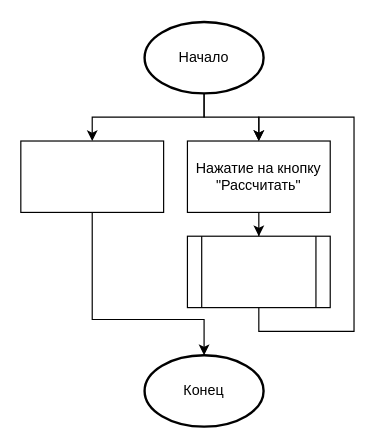
This 384x447 diagram has some shape labels left out. Here are the shapes that lost their labels. From the top down, the box of each, then its label:
(20, 140, 164, 212): Нажатие на закрытие программы
(186, 235, 330, 308): procedure
